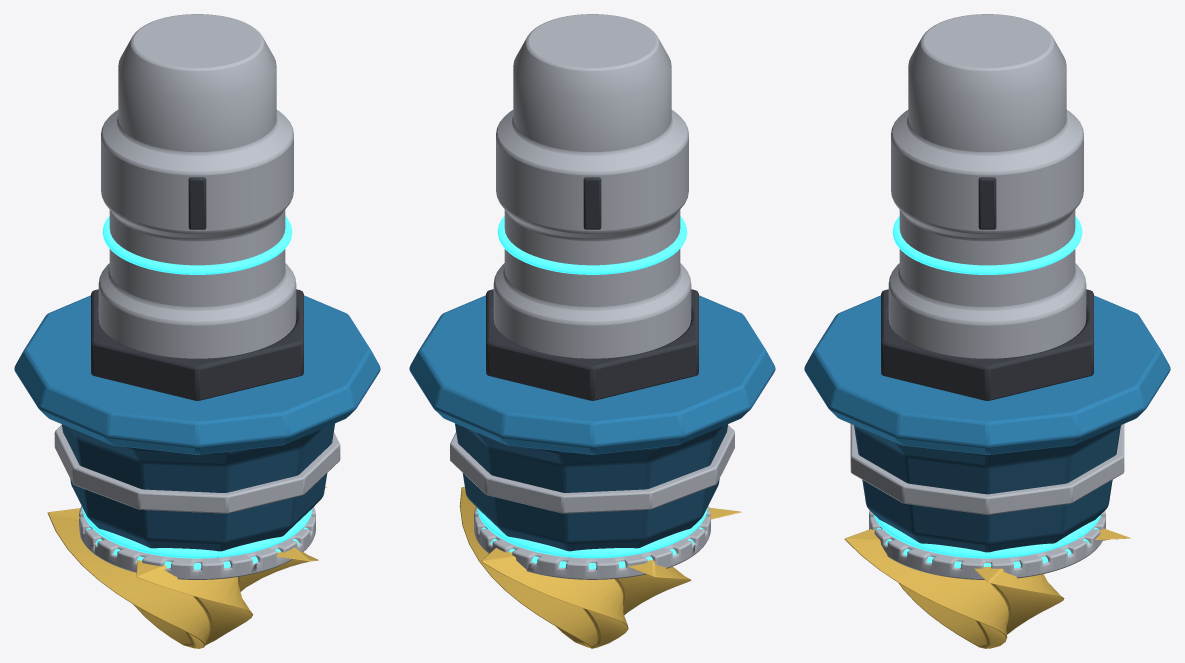
The model's file is speer.glb.
3 renders of one model, left to right at view 1: azimuth 30°, elevation 25°; view 2: azimuth 150°, elevation 25°; view 3: azimuth 270°, elevation 25°, orthographic.
Parts seen in each view (by area): view 1: Schaft.005, Flansch.005, Gehaeuse.005, Speer, Kragen.005, Metallband.005, Fussring.005, Schaftleuchte.005, Fussleuchte.006, Rippe.025; view 2: Schaft.005, Flansch.005, Gehaeuse.005, Speer, Kragen.005, Metallband.005, Fussring.005, Schaftleuchte.005, Fussleuchte.006, Rippe.024; view 3: Schaft.005, Flansch.005, Gehaeuse.005, Speer, Kragen.005, Metallband.005, Fussring.005, Schaftleuchte.005, Fussleuchte.006, Rippe.023.
Part boxes in pixels (x1,y1,x2,y2): Schaft.005: (98,14,296,358); Flansch.005: (14,295,380,454); Gehaeuse.005: (62,423,334,557); Speer: (47,487,326,648); Kragen.005: (91,289,303,400); Metallband.005: (54,425,340,513); Fussring.005: (79,506,315,579); Schaftleuchte.005: (102,216,292,274); Fussleuchte.006: (82,507,312,558); Rippe.025: (188,177,206,229); Schaft.005: (493,14,691,358); Flansch.005: (409,295,775,454); Gehaeuse.005: (455,423,727,551); Speer: (459,487,741,648); Kragen.005: (486,289,698,400); Metallband.005: (450,425,734,513); Fussring.005: (474,506,710,579); Schaftleuchte.005: (497,216,687,274); Fussleuchte.006: (477,507,707,558); Rippe.024: (583,177,601,229); Schaft.005: (888,14,1086,358); Flansch.005: (804,295,1170,454); Gehaeuse.005: (853,425,1121,552); Speer: (844,528,1130,648); Kragen.005: (881,289,1093,400); Metallband.005: (850,424,1124,514); Fussring.005: (869,510,1105,579); Schaftleuchte.005: (892,216,1082,274); Fussleuchte.006: (873,514,1101,558); Rippe.023: (978,177,996,229).
Size of the model in its own units: 0.1668 by 0.3053 by 0.1668.
